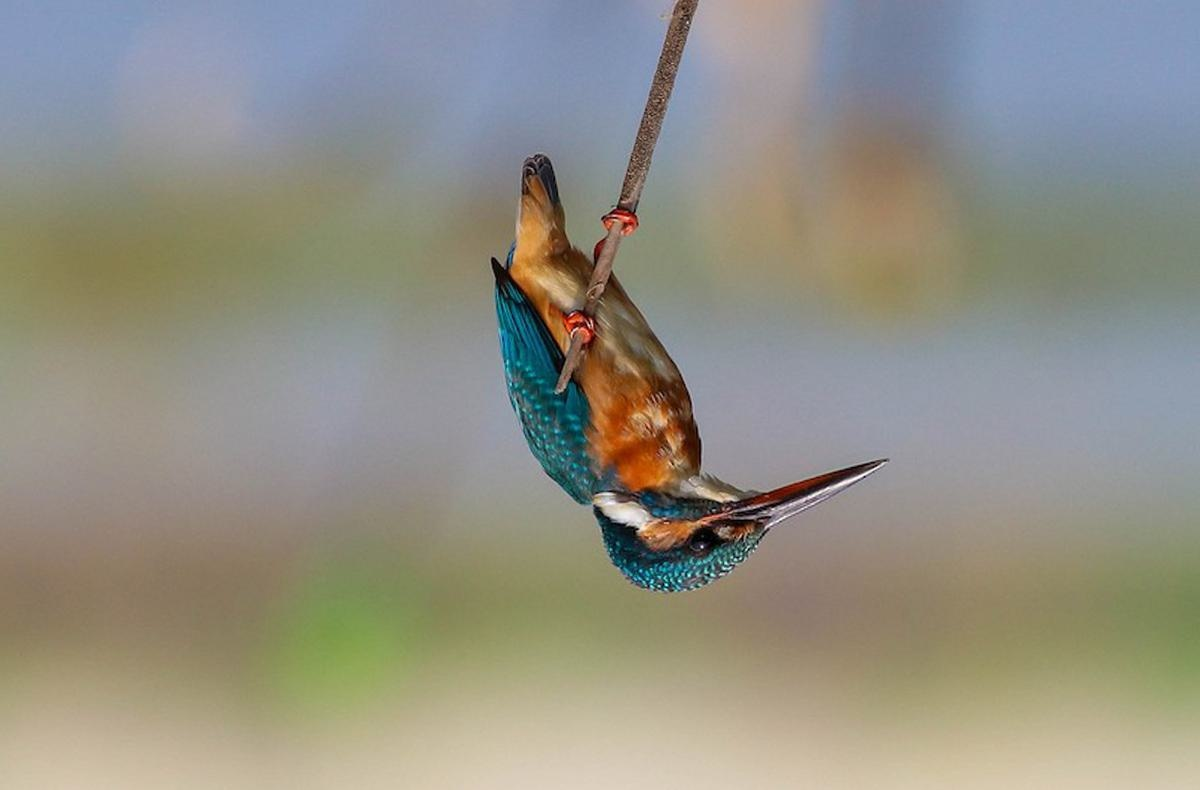kingfisher: (484, 153, 889, 602)
